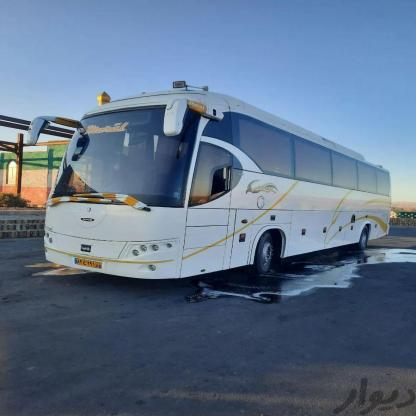Bus: (25, 83, 402, 305)
